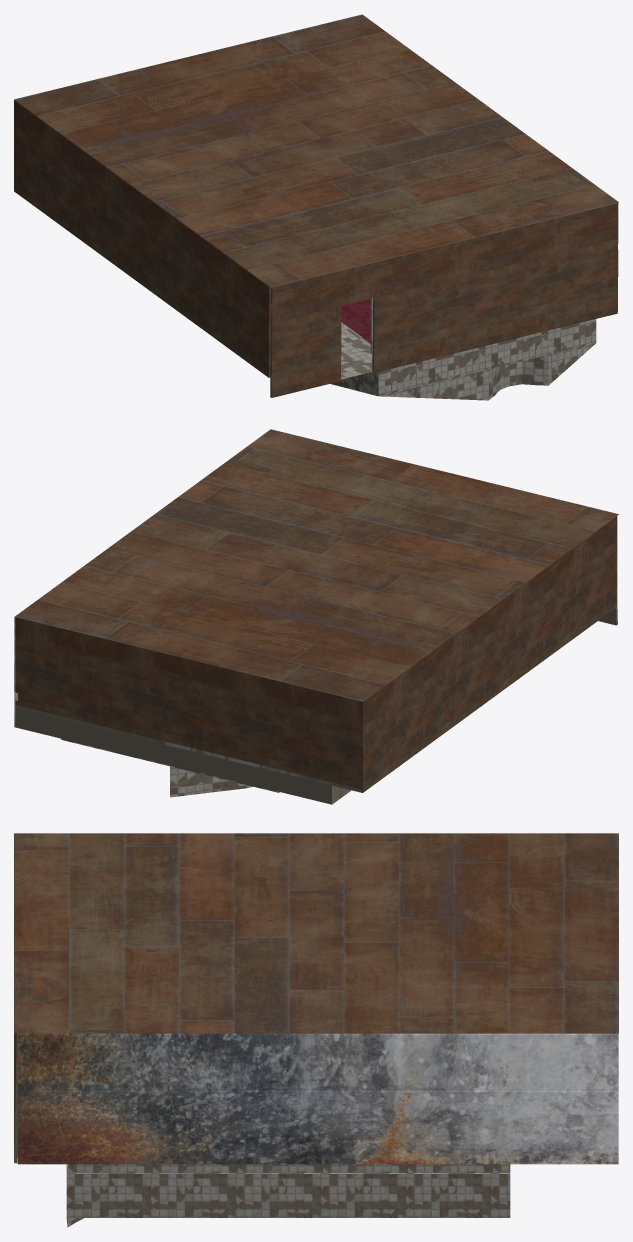
The model's file is bathroom.fbx.
The picture shows the model from 3 angles, top to bottom: view 1: azimuth 30°, elevation 25°; view 2: azimuth 150°, elevation 25°; view 3: azimuth 270°, elevation 25°; orthographic projection. The views are drawn at different scales.
Visible parts, largest first — view 1: Plane.001, Plane; view 2: Plane.001, Plane; view 3: Plane.001, Plane.
Boxes of the visible parts, x1=… form: Plane.001: x1=14, y1=14, x2=618, y2=287; Plane: x1=14, y1=100, x2=618, y2=400; Plane.001: x1=15, y1=429, x2=618, y2=701; Plane: x1=14, y1=444, x2=617, y2=804; Plane.001: x1=14, y1=833, x2=618, y2=1033; Plane: x1=14, y1=976, x2=618, y2=1227.
Size of the model in its own units: 1157 by 596 by 1473.
